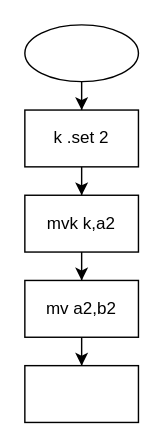
This 163x447 diagram has some shape labels left out. Here are the shapes that lost their labels. From the top down, the centre of each, then its label:
At point 80,52: "Начало".
At point 80,393: "add a2,b2,a2".
